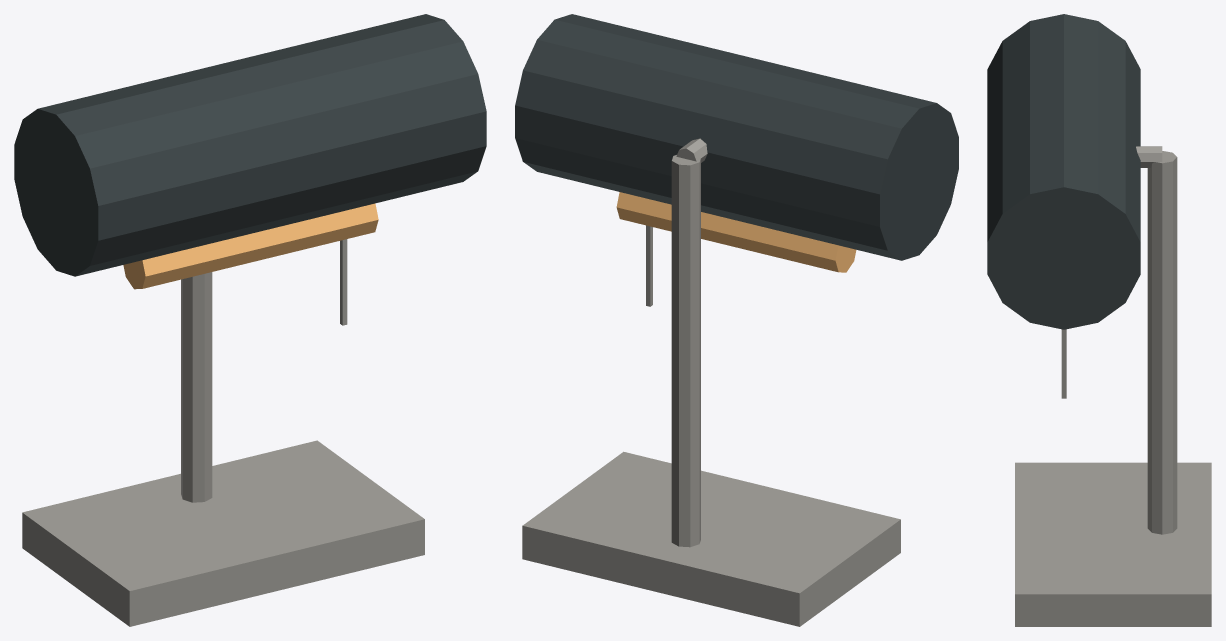
File: desk-lamp-banker.glb
3 views of the same model, side by side, from view 1: azimuth 30°, elevation 25°; view 2: azimuth 150°, elevation 25°; view 3: azimuth 270°, elevation 25° (orthographic). The views are drawn at different scales.
Parts seen in each view (by area): view 1: glass, brushed, emissive-warm; view 2: glass, brushed, emissive-warm; view 3: glass, brushed.
Part boxes in pixels (left/top/right/bottom): glass: left=14, top=14, right=486, bottom=276; brushed: left=22, top=239, right=424, bottom=626; emissive-warm: left=123, top=203, right=378, bottom=289; glass: left=515, top=14, right=958, bottom=260; brushed: left=522, top=138, right=900, bottom=626; emissive-warm: left=616, top=192, right=856, bottom=272; glass: left=987, top=14, right=1140, bottom=329; brushed: left=1015, top=146, right=1211, bottom=626.
Bounding box in the file's own units: 0.25 × 0.31 × 0.1368.
